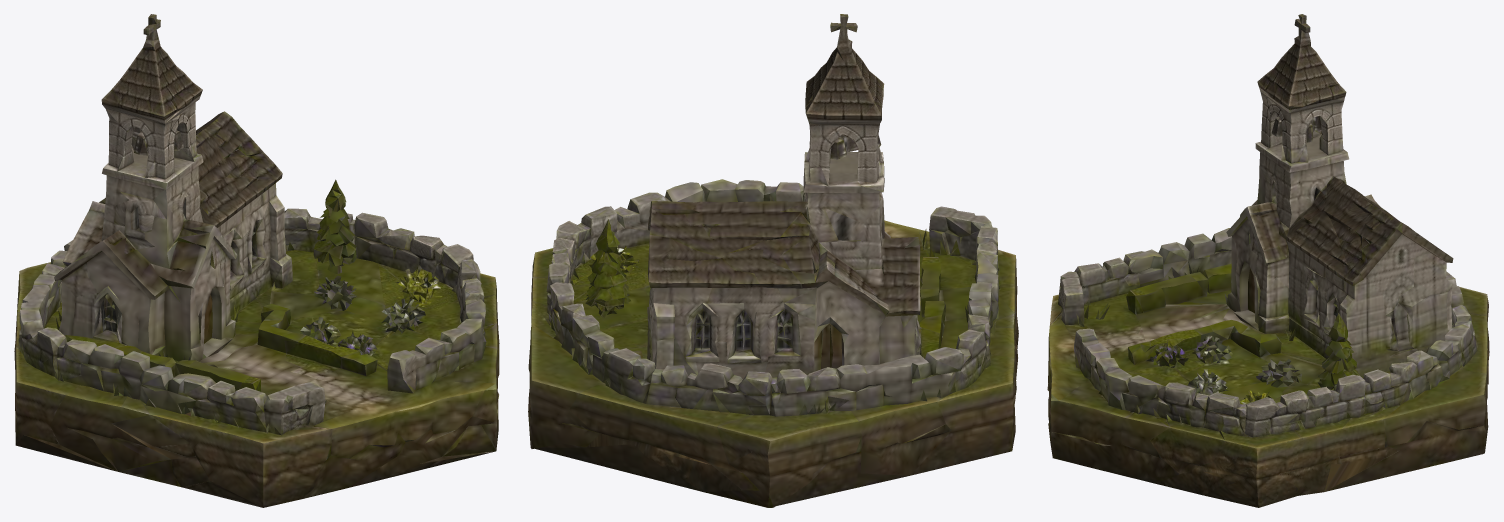
The model's file is abbey.glb.
3 views of the same model, side by side, from view 1: azimuth 30°, elevation 25°; view 2: azimuth 150°, elevation 25°; view 3: azimuth 270°, elevation 25° (orthographic). The views are drawn at different scales.
Size of the model in its own units: 2.31 by 1.82 by 2.08.
1 material, 1 textured.
